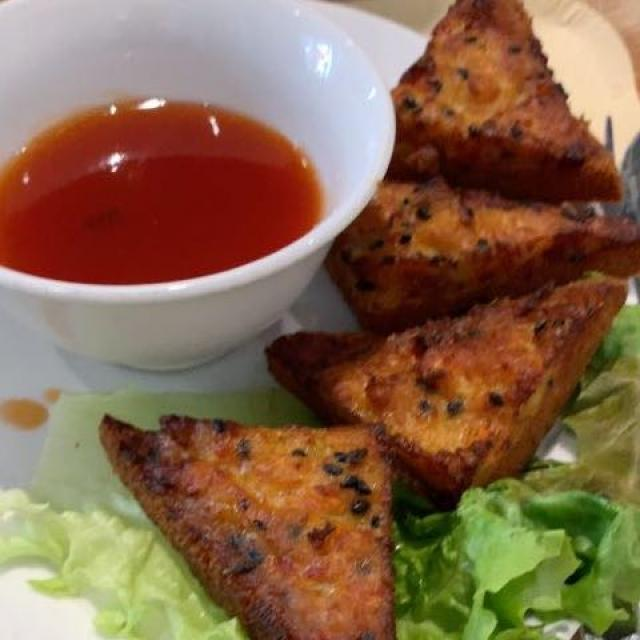chicken: (134, 18, 622, 637)
sauce: (18, 107, 307, 278)
sesame-seeds: (215, 27, 542, 582)
